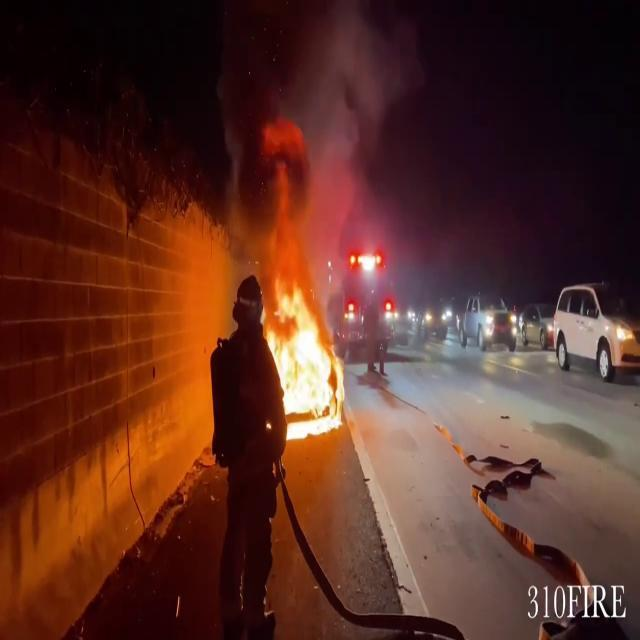Fire: (264, 278, 346, 440)
Smoke: (206, 1, 427, 270)
